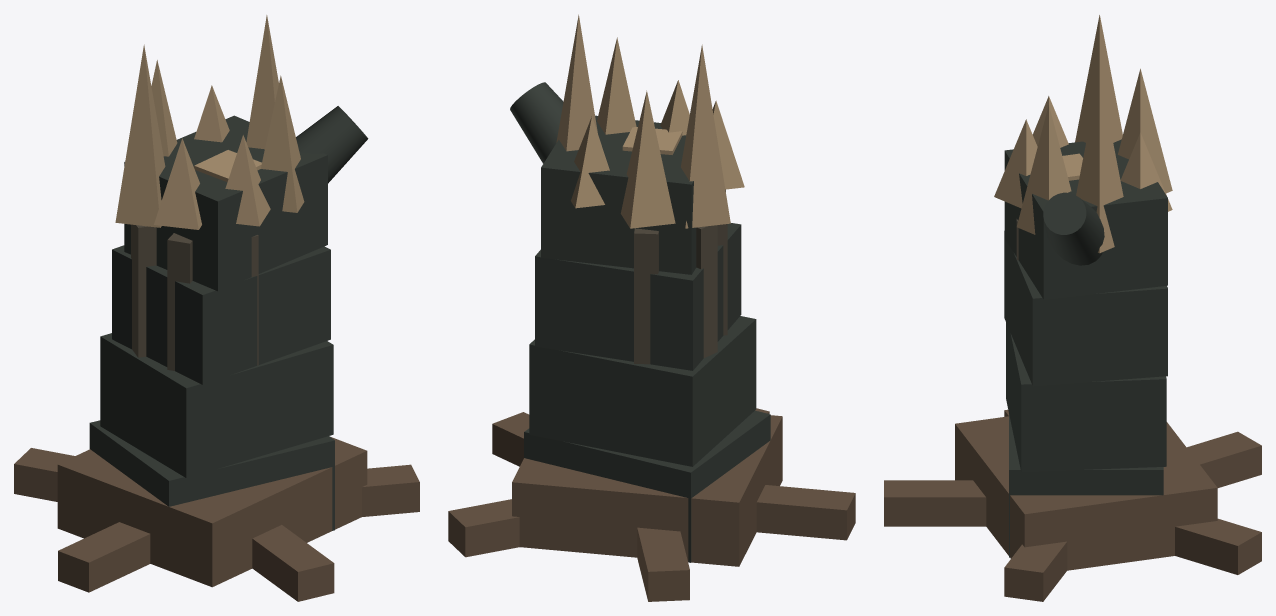
The model's file is FSA_ENV_Outdoor_Tree_05_Lightning.glb.
3 views of the same model, side by side, from view 1: azimuth 30°, elevation 25°; view 2: azimuth 150°, elevation 25°; view 3: azimuth 270°, elevation 25° (orthographic). The views are drawn at different scales.
Visible parts, largest first — view 1: BurntTrunk1, RootCore, BurntTrunk2, BurntTrunk3, BurntTrunk0, JaggedRim5, Root_4, Root_0, JaggedRim1, Root_1, SnappedLimb, JaggedRim6 (+8 smaller); view 2: BurntTrunk1, RootCore, BurntTrunk2, BurntTrunk3, BurntTrunk0, JaggedRim5, Root_4, JaggedRim4, Root_3, Root_2, JaggedRim2, BarkRib4 (+9 smaller); view 3: RootCore, BurntTrunk2, BurntTrunk1, BurntTrunk3, Root_0, BurntTrunk0, JaggedRim2, Root_2, SnappedLimb, Root_1, Root_3, JaggedRim1 (+5 smaller).
Part boxes in pixels (x1,y1,x2,y2): BurntTrunk1: (100, 333, 333, 477); RootCore: (57, 437, 367, 587); BurntTrunk2: (112, 245, 330, 384); BurntTrunk3: (124, 115, 327, 291); BurntTrunk0: (89, 420, 334, 530); JaggedRim5: (115, 44, 165, 227); Root_4: (58, 522, 150, 592); Root_0: (252, 525, 334, 601); JaggedRim1: (261, 75, 304, 212); Root_1: (362, 464, 419, 516); SnappedLimb: (296, 106, 368, 183); JaggedRim6: (154, 138, 201, 229); BurntTrunk1: (529, 316, 756, 466); RootCore: (512, 415, 782, 566); BurntTrunk2: (535, 223, 741, 370); BurntTrunk3: (541, 115, 725, 274); BurntTrunk0: (524, 410, 770, 562); JaggedRim5: (681, 44, 730, 228); Root_4: (756, 485, 855, 540); JaggedRim4: (620, 90, 675, 228); Root_3: (637, 527, 689, 601); Root_2: (448, 499, 519, 557); JaggedRim2: (556, 14, 597, 151); BarkRib4: (634, 228, 658, 364); RootCore: (955, 416, 1217, 570); BurntTrunk2: (1004, 231, 1167, 386); BurntTrunk1: (1006, 322, 1166, 471); BurntTrunk3: (1004, 139, 1167, 299); Root_0: (884, 480, 986, 526); BurntTrunk0: (1009, 414, 1163, 557); JaggedRim2: (1076, 73, 1123, 253); Root_2: (1175, 518, 1261, 574); SnappedLimb: (1043, 192, 1104, 265); Root_1: (1004, 541, 1067, 601); Root_3: (1187, 431, 1261, 487); JaggedRim1: (1016, 105, 1071, 234).
Size of the model in its own units: 1.85 by 2.44 by 1.76.
